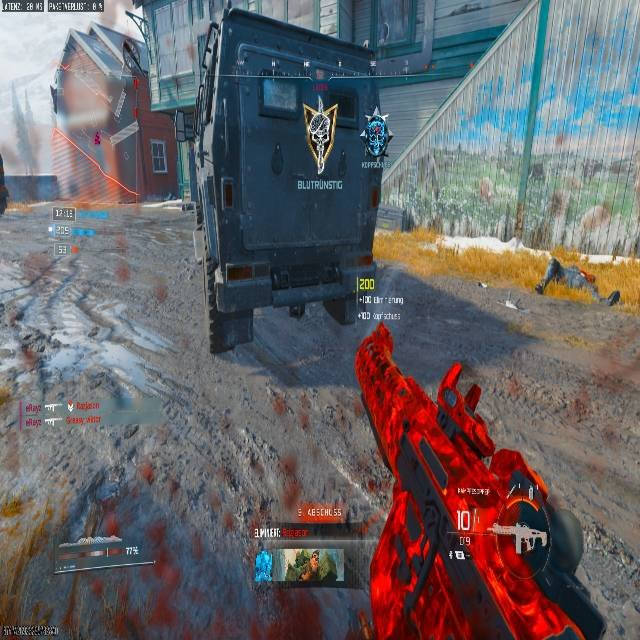player: (48, 2, 149, 196), (360, 111, 393, 165)
